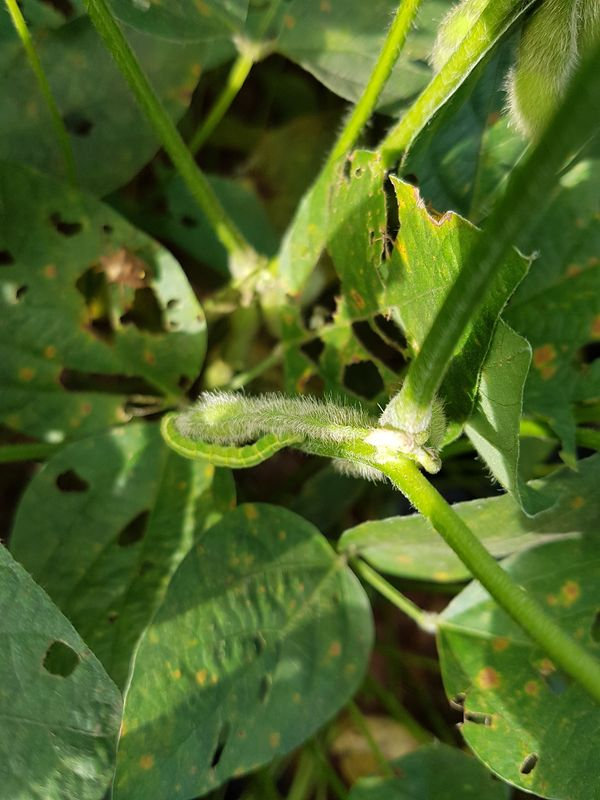Euschistus_heros_adulto: (87, 239, 164, 307)
